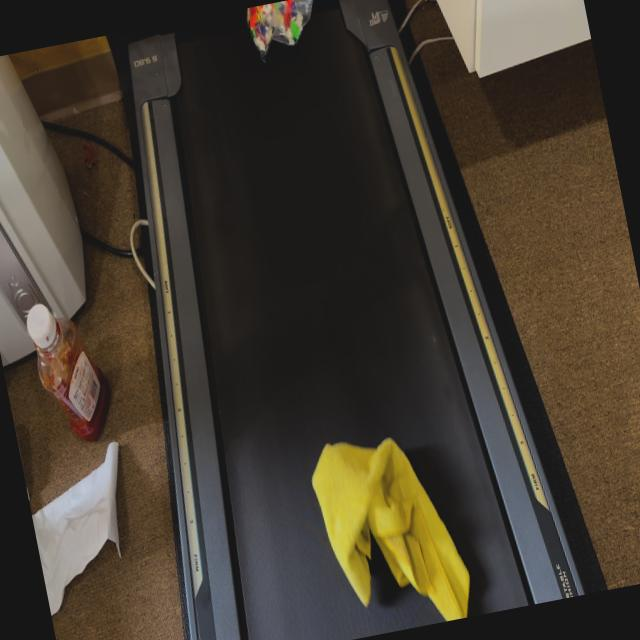Trash: (298, 415, 478, 640), (240, 0, 328, 66)
